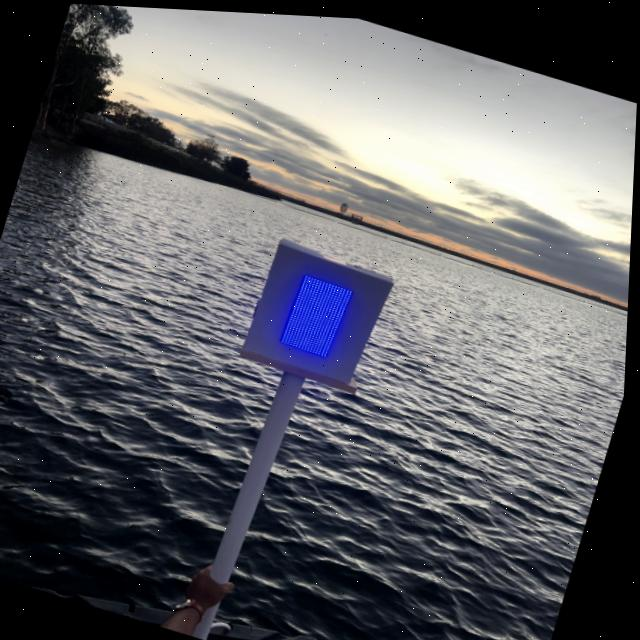led: (266, 249, 377, 375)
